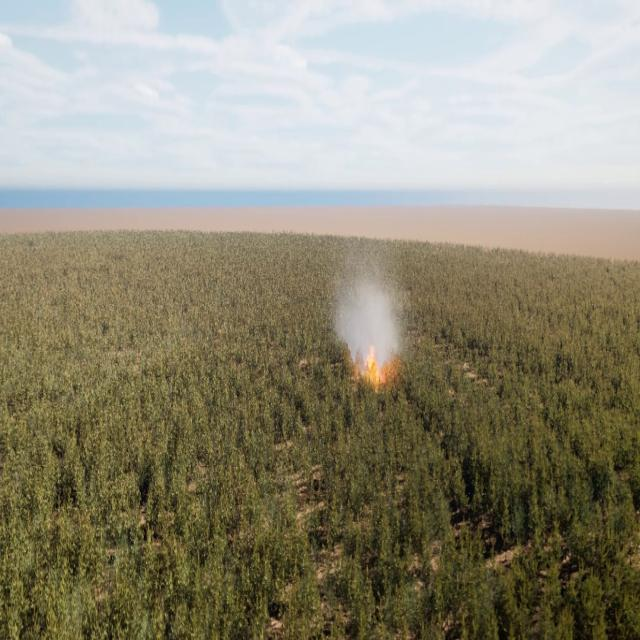fire: (359, 344, 396, 384)
smoke: (329, 261, 405, 374)
